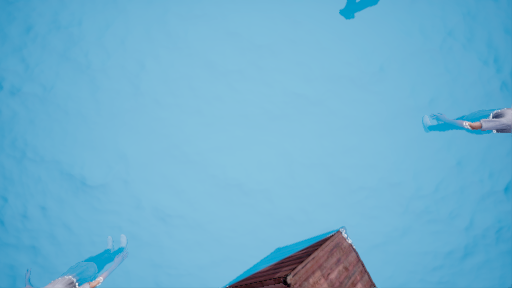person: (50, 236, 132, 286), (424, 101, 512, 140)
